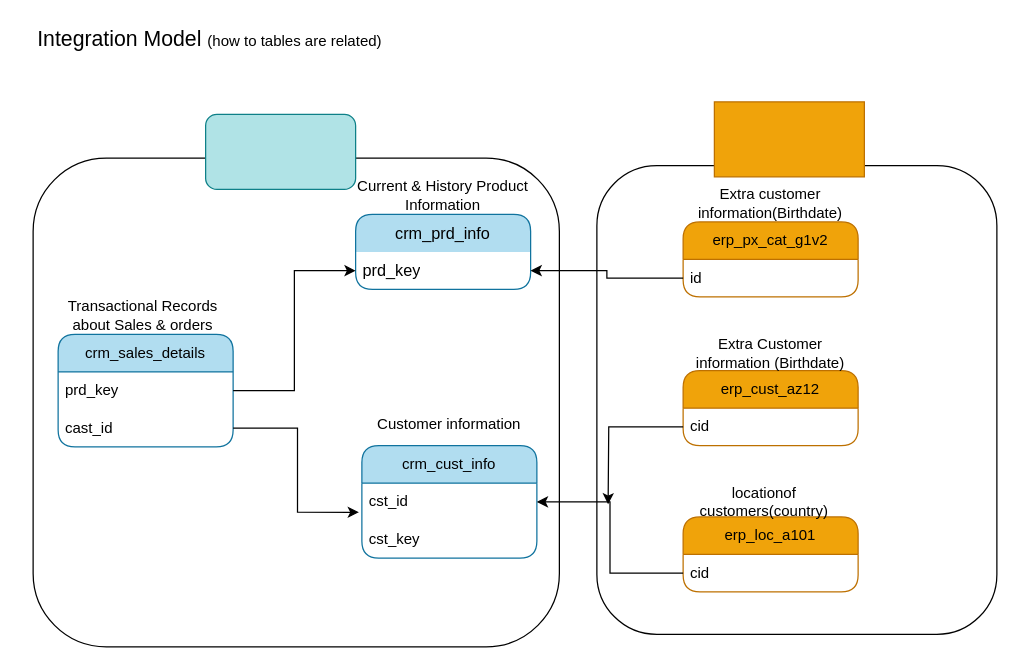
This 1019x669 diagram has some shape labels left out. The shapes that lost their labels are listed below. From the top down, each one's centre as x and y in pixels, then its label:
At point 280,151: "CRM".
At point 788,139: "ERP".
